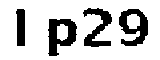2: (81, 4, 113, 49)
9: (117, 6, 151, 50)
l: (11, 6, 34, 52)
p: (42, 15, 78, 60)
